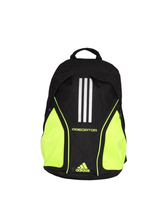bag: (32, 46, 140, 179)
